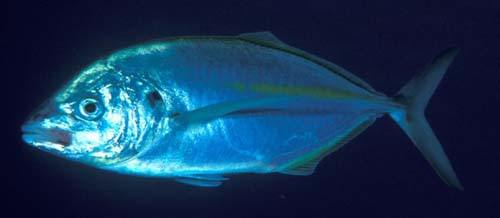fish: (21, 30, 466, 192)
